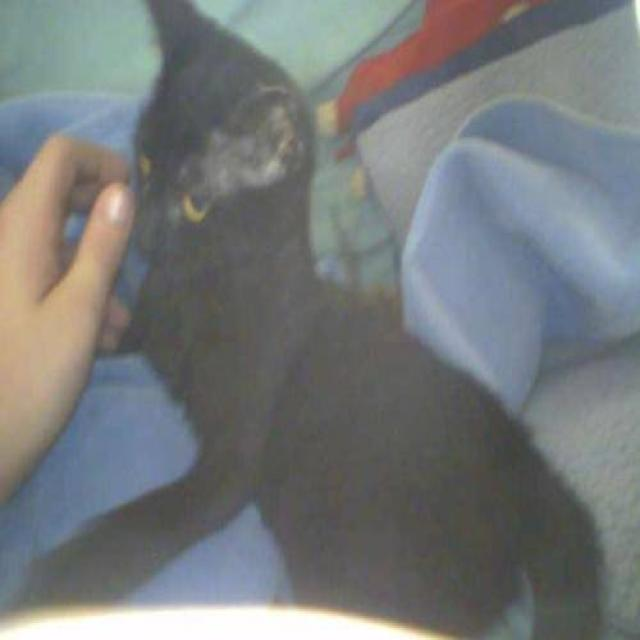cat: (14, 0, 609, 638)
